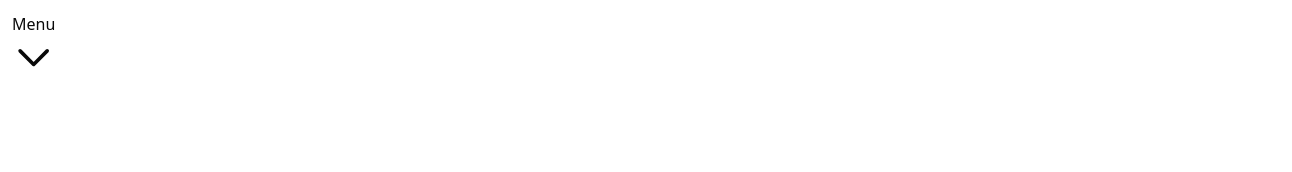
Test: HeaderNavItem › with dropdown › closes dropdown on outside click
The width and height of the screenshot is (1292, 172).
// Open the dropdown
Click the button "Menu" at (34, 46), box [12,12,55,79]
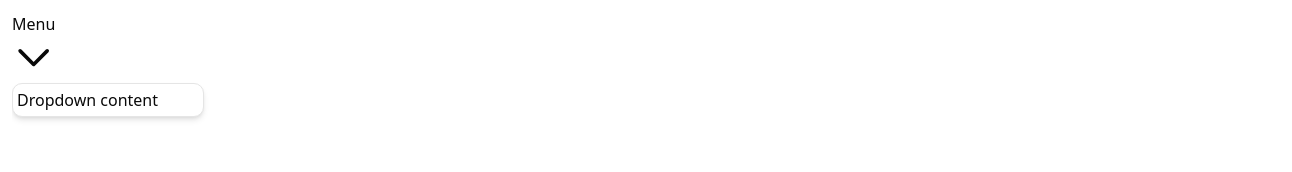
Expected: the menu is shown, [12,83,204,117]
// Click outside (on document body)
Press the mouse on the element showing "Menu Dropdown content" at (652, 46), box [12,12,1291,79]
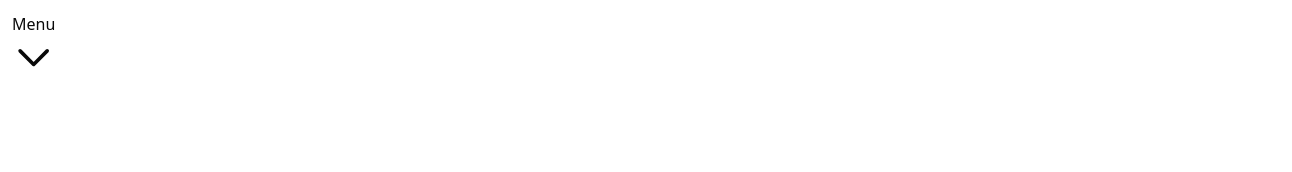
Expected: the menu is gone
